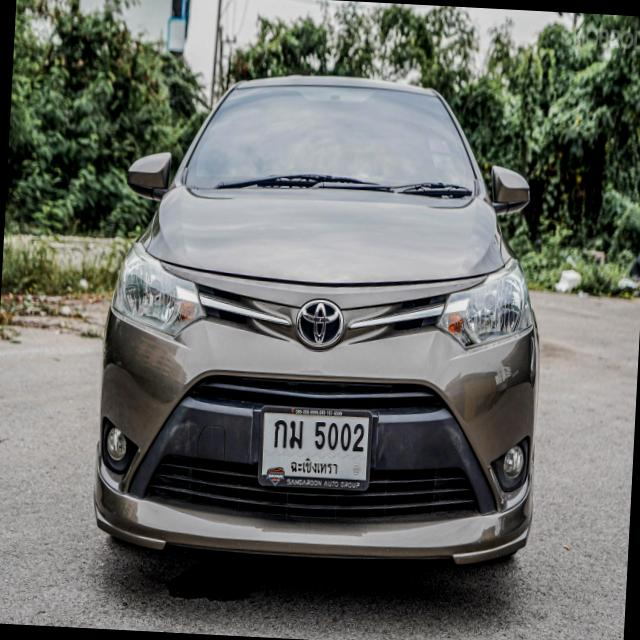license_plate: (255, 402, 376, 492)
